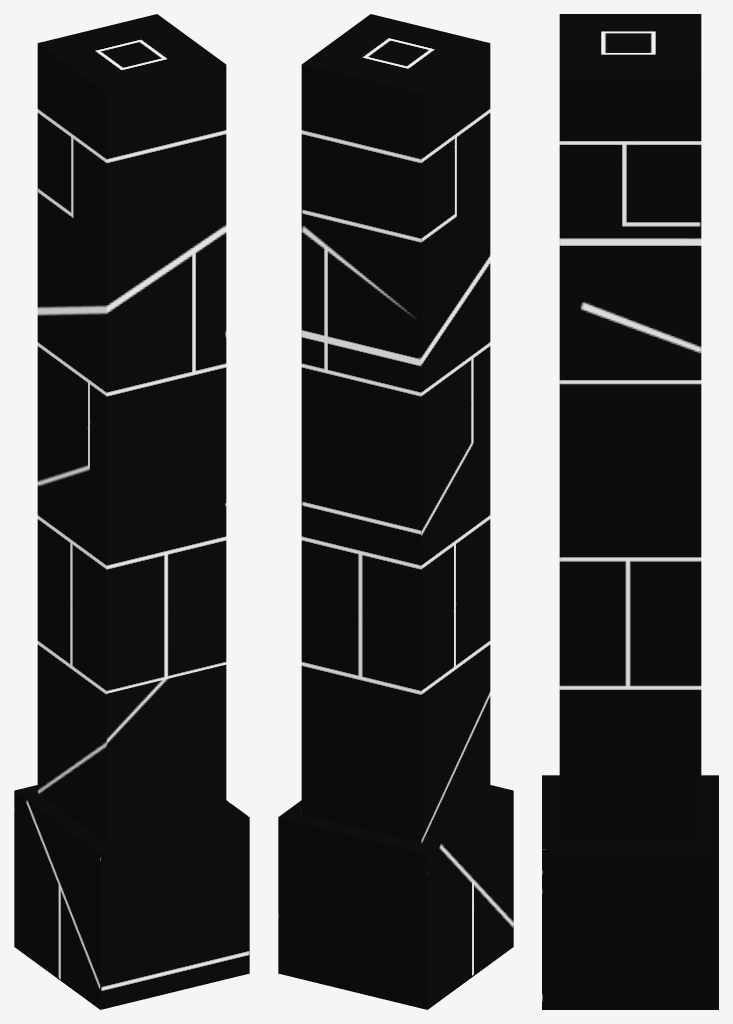
File: SM_Cyber_Pillar.glb
3 views of the same model, side by side, from view 1: azimuth 30°, elevation 25°; view 2: azimuth 150°, elevation 25°; view 3: azimuth 270°, elevation 25° (orthographic). The views are drawn at different scales.
Parts seen in each view (by area): view 1: Cube; view 2: Cube; view 3: Cube.
Part boxes in pixels (x1=…): Cube: x1=14, y1=14, x2=249, y2=1009; Cube: x1=278, y1=14, x2=513, y2=1009; Cube: x1=542, y1=14, x2=718, y2=1009.
Size of the model in its own units: 1.25 by 7.25 by 1.25.
Materials: 1 (1 with a texture image).
